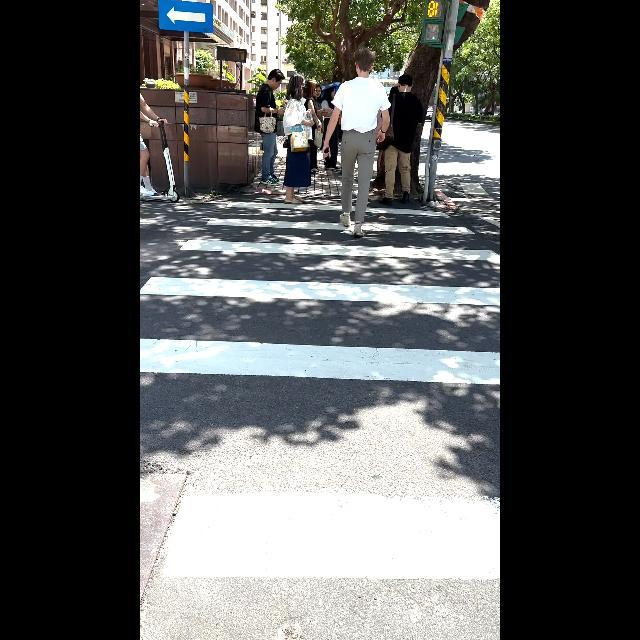sidewalk: (140, 198, 500, 583)
